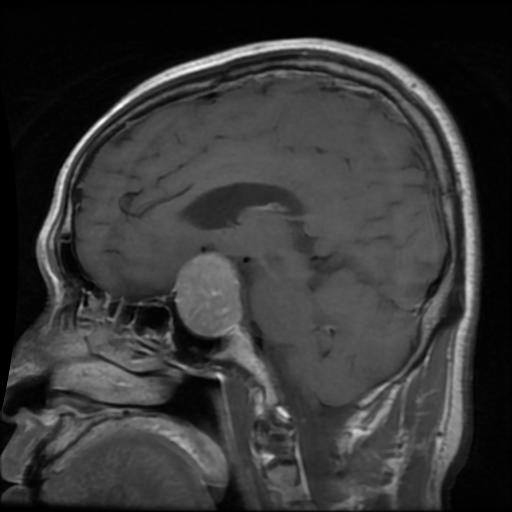Pituirity_tumour: (176, 250, 240, 335)
